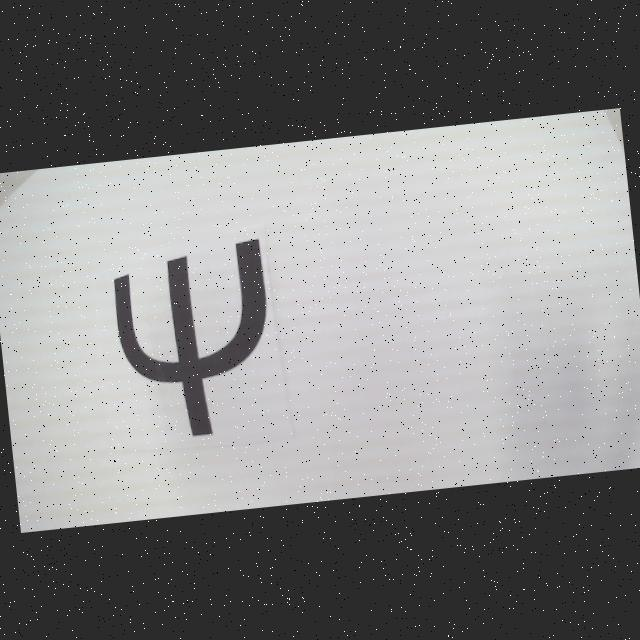PSI: (109, 238, 280, 442)
